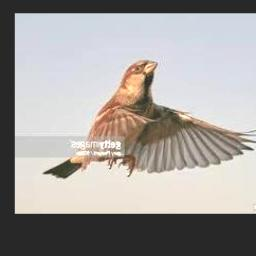Sparrow: (43, 59, 256, 179)
